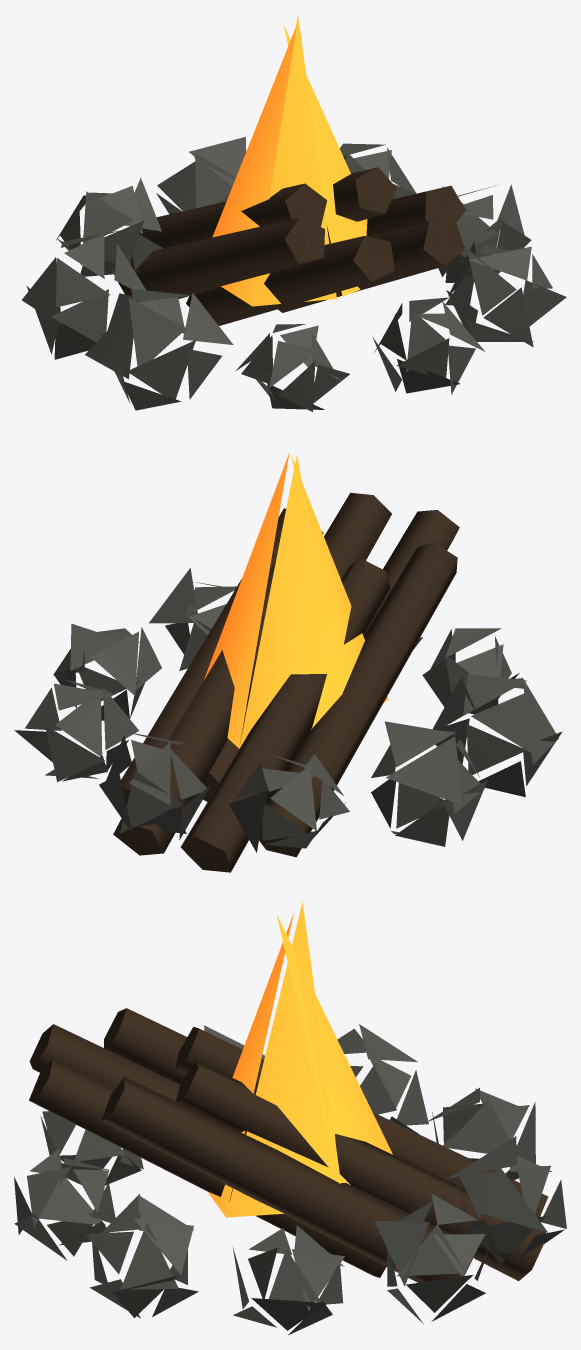
File: bonfire.glb
The picture shows the model from 3 angles, top to bottom: view 1: azimuth 30°, elevation 25°; view 2: azimuth 150°, elevation 25°; view 3: azimuth 270°, elevation 25°; orthographic projection. The views are drawn at different scales.
Parts seen in each view (by area): view 1: bonfire_stone, bonfire_timber, bonfire_ember; view 2: bonfire_stone, bonfire_timber, bonfire_ember; view 3: bonfire_timber, bonfire_stone, bonfire_ember.
Boxes of the visible parts, box(x1,y1,x2,y2) form: bonfire_stone: box(22, 137, 566, 411); bonfire_timber: box(118, 167, 465, 325); bonfire_ember: box(212, 15, 367, 306); bonfire_stone: box(14, 568, 562, 852); bonfire_timber: box(113, 493, 459, 872); bonfire_ember: box(204, 452, 388, 748); bonfire_timber: box(29, 1008, 548, 1282); bonfire_stone: box(14, 1024, 566, 1335); bonfire_ember: box(207, 902, 392, 1217).
Size of the model in its own units: 2.11 by 1.49 by 2.1.
